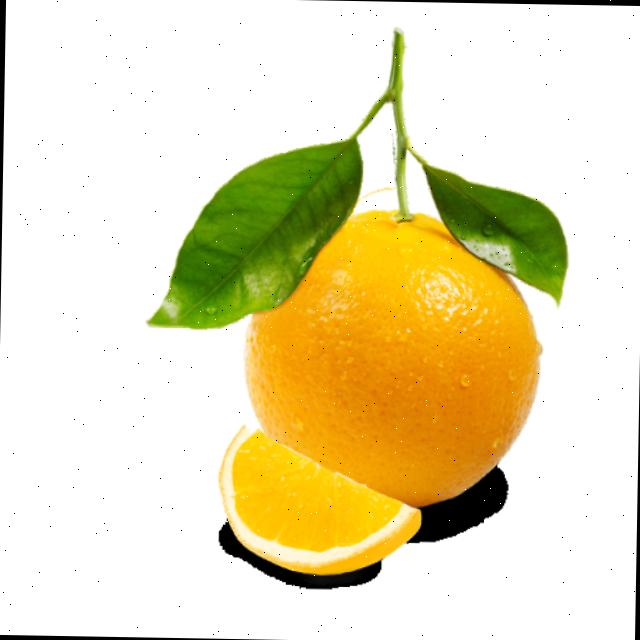Jeruk: (242, 205, 546, 510), (217, 423, 426, 578)
